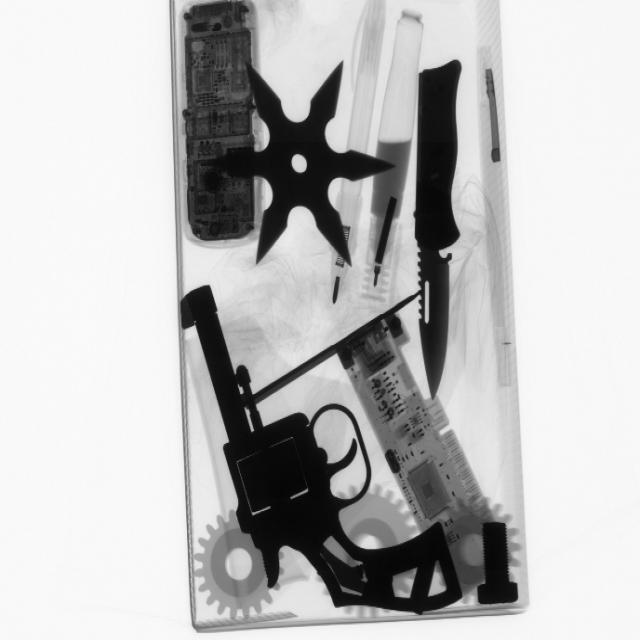GUN: (185, 284, 473, 626)
KNIFE: (403, 57, 480, 392)
SHURIKEN: (215, 53, 389, 271)
